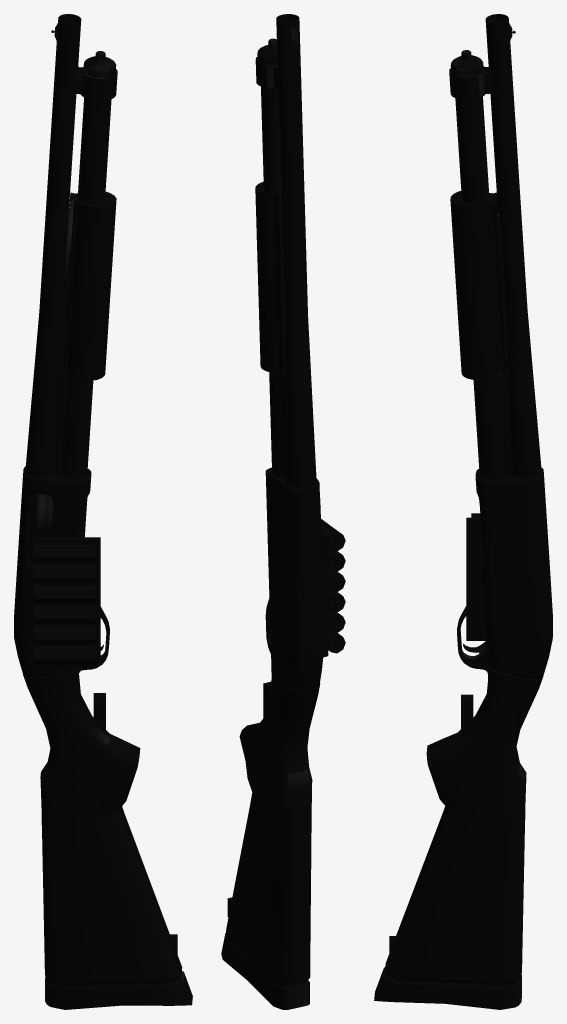
Rendered from Rem870__Sidesaddle_Shotgun__Stock_870_Folding.fbx.
3 renders of one model, left to right at view 1: azimuth 90°, elevation 25°; view 2: azimuth 210°, elevation 25°; view 3: azimuth 270°, elevation 25°, orthographic.
Visible parts, largest first — view 1: asset_Rem870.001; view 2: asset_Rem870.001; view 3: asset_Rem870.001.
Part boxes in pixels (left/top/right/bottom): asset_Rem870.001: left=14, top=14, right=192, bottom=1009; asset_Rem870.001: left=221, top=14, right=345, bottom=1009; asset_Rem870.001: left=374, top=14, right=552, bottom=1009.
Bounding box in the file's own units: 0.0389 × 0.636 × 0.1048.
